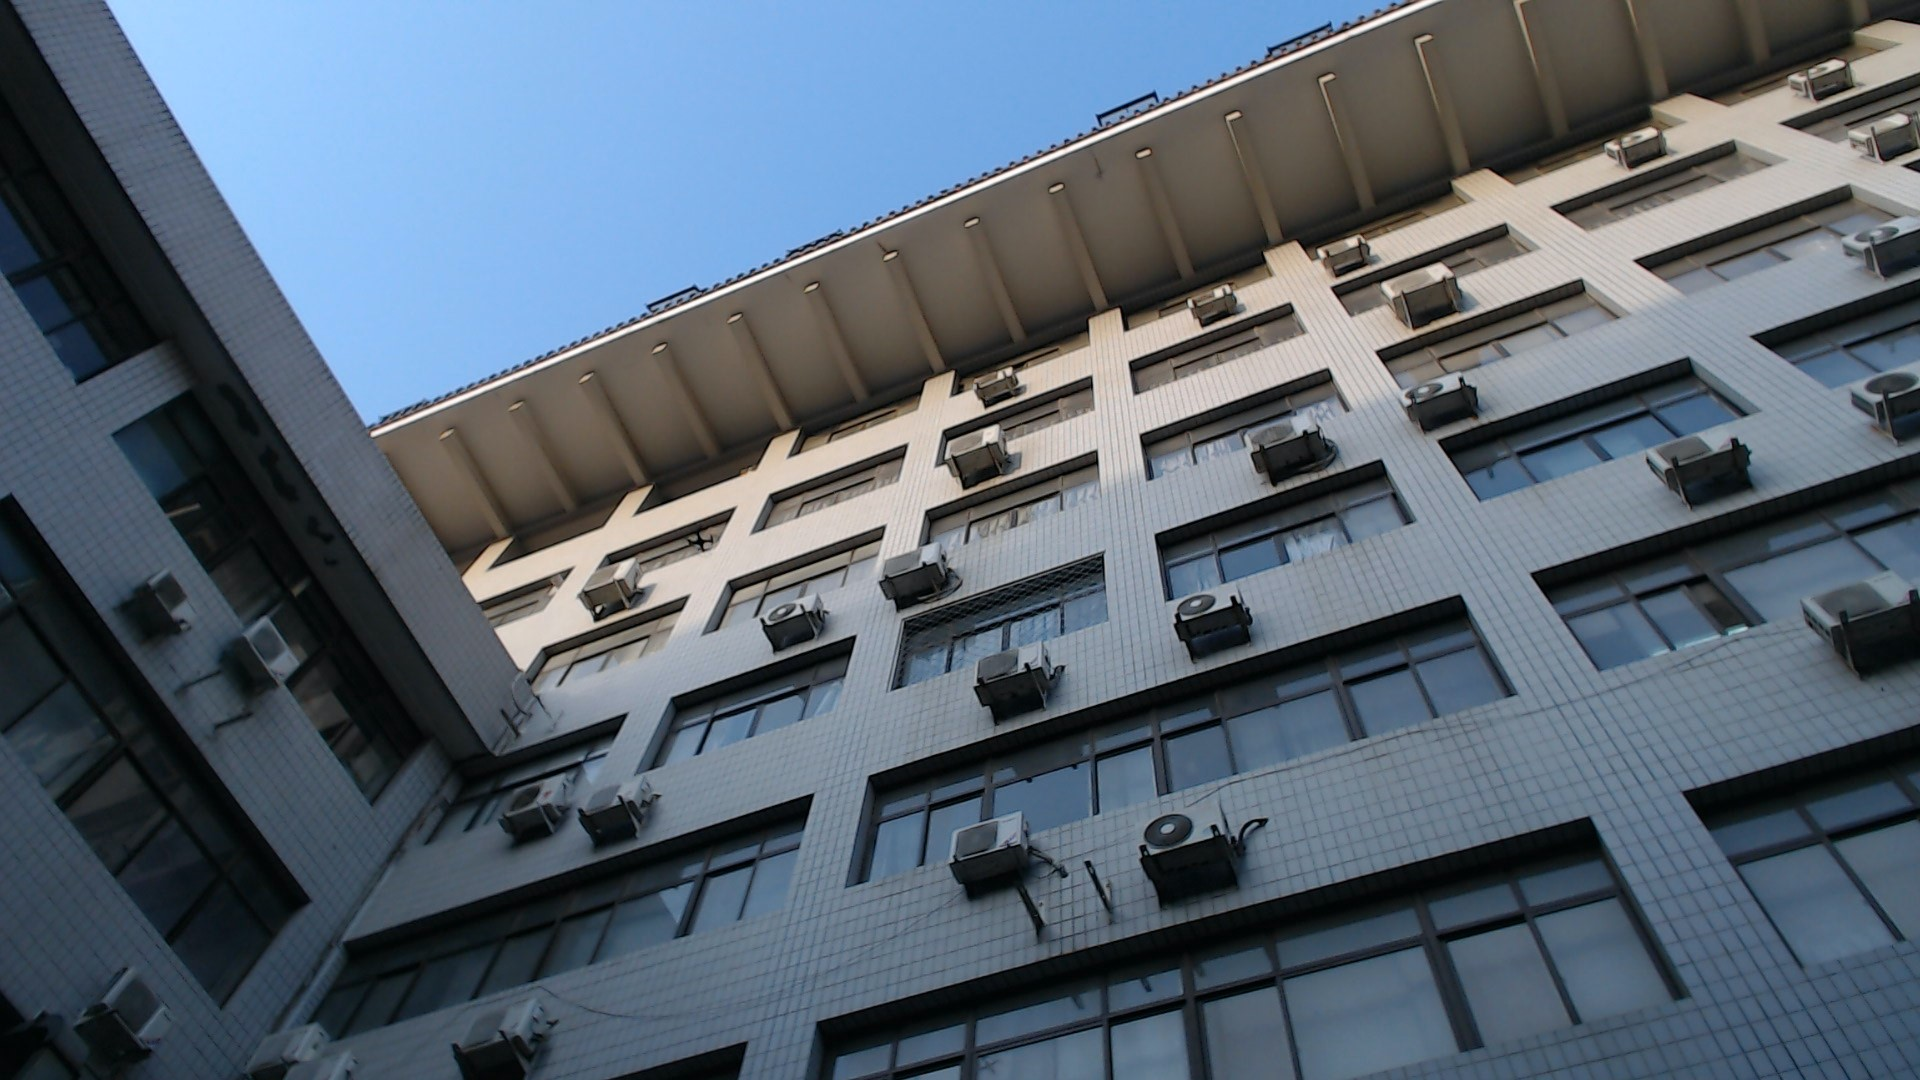drone: (665, 521, 741, 566)
